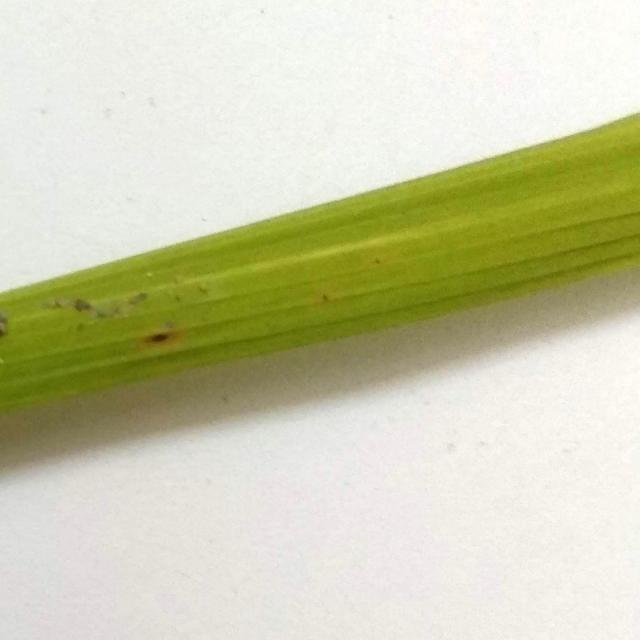Brown spot: (0, 100, 632, 463)
